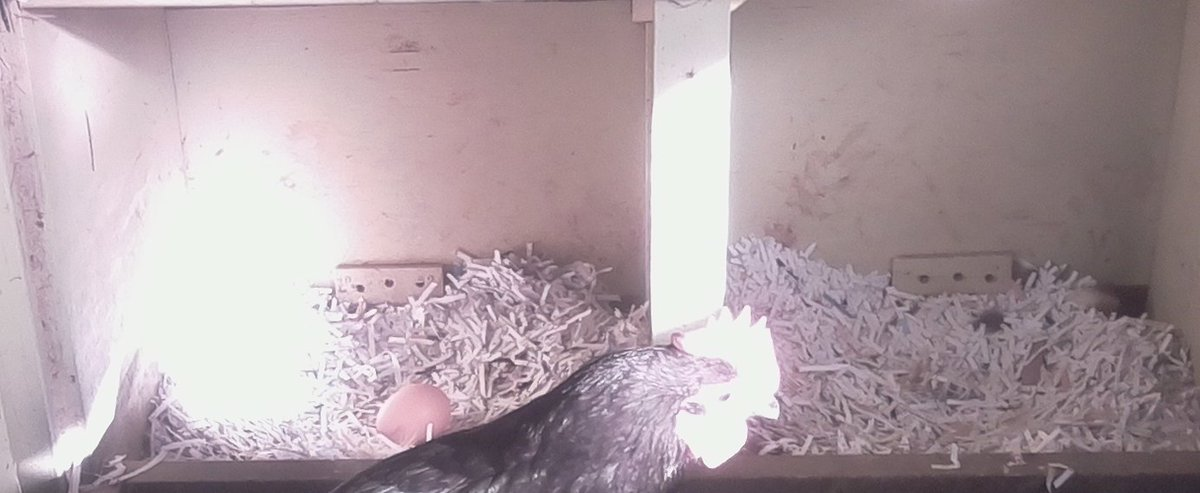egg: (369, 383, 454, 447)
hen: (329, 307, 790, 493)
